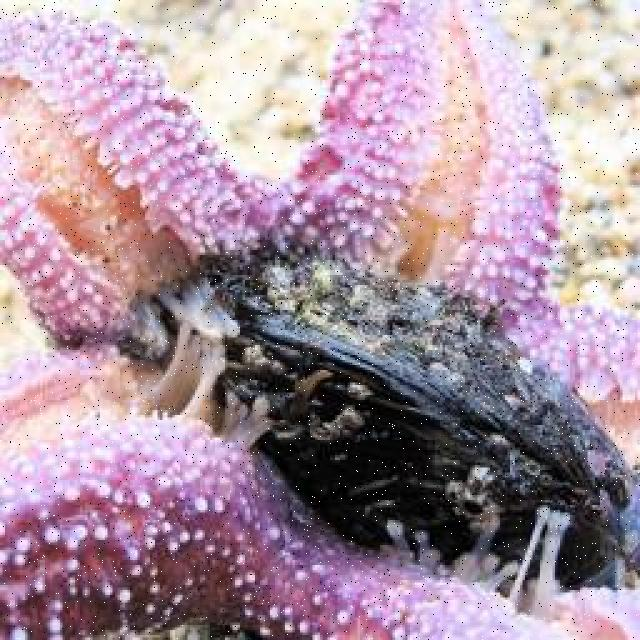reefs: (0, 0, 638, 638), (204, 244, 628, 588)
